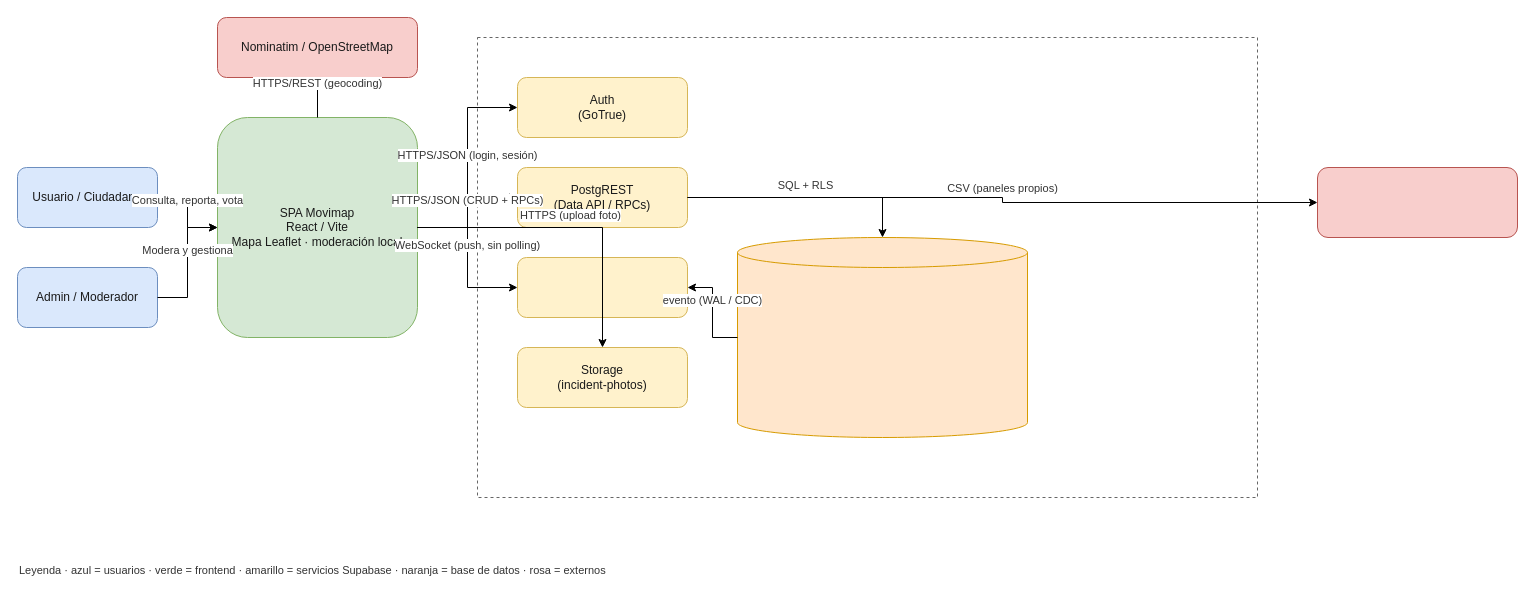
This 1535x605 diagram has some shape labels left out. Here are the shapes that lost their labels. From the top down, the box of each, then its label:
(1316, 166, 1518, 238): Analista BI (paneles propios)
(516, 256, 688, 318): Realtime (WebSocket)
(476, 36, 1258, 498): Supabase
(736, 236, 1028, 438): PostgreSQL tablas base + vistas (incidents_public / _with_stats) · RLS
